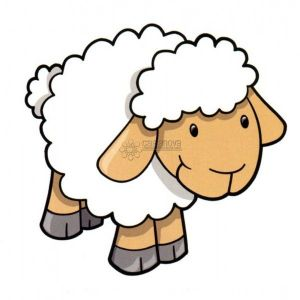sheep: (23, 20, 288, 277)
